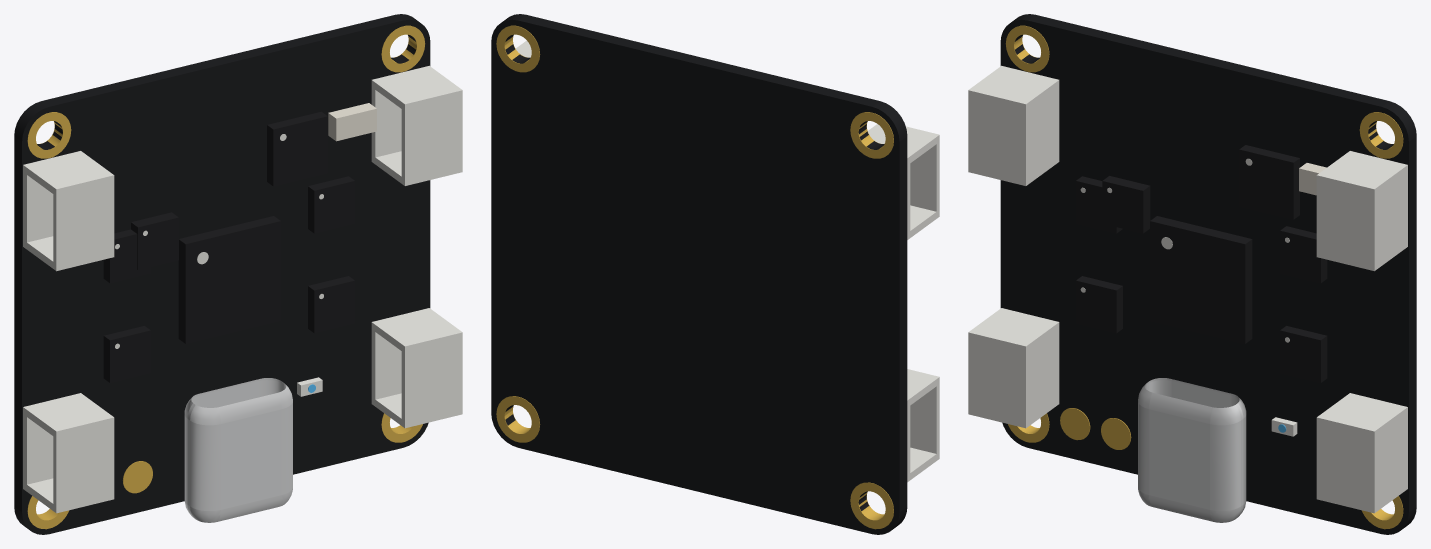
File: betafpv-f4-1s-5a-aio.glb
3 renders of one model, left to right at view 1: azimuth 30°, elevation 25°; view 2: azimuth 150°, elevation 25°; view 3: azimuth 330°, elevation 25°, orthographic.
Parts seen in each view (by area): view 1: board, usb, mcu, motor_plug_3, motor_plug_2, motor_plug_4, motor_plug_1, receiver, esc_fet_3, esc_fet_1, esc_fet_4, gyro (+7 smaller); view 2: board, motor_plug_2, motor_plug_3, hole_4, hole_3, hole_1, hole_2; view 3: board, usb, mcu, motor_plug_4, motor_plug_2, motor_plug_1, motor_plug_3, receiver, gyro, esc_fet_4, esc_fet_3, esc_fet_1 (+8 smaller).
Boxes of the visible parts, <box> form: board: <box>14,14,430,534</box>; usb: <box>184,378,292,522</box>; mcu: <box>178,216,280,343</box>; motor_plug_3: <box>23,393,114,513</box>; motor_plug_2: <box>23,151,114,271</box>; motor_plug_4: <box>371,308,462,428</box>; motor_plug_1: <box>371,65,462,185</box>; receiver: <box>267,111,327,186</box>; esc_fet_3: <box>103,326,150,382</box>; esc_fet_1: <box>308,176,354,233</box>; esc_fet_4: <box>308,276,354,333</box>; gyro: <box>131,212,178,269</box>; board: <box>491,14,907,534</box>; motor_plug_2: <box>868,124,939,239</box>; motor_plug_3: <box>907,369,939,482</box>; hole_4: <box>496,396,540,442</box>; hole_3: <box>850,482,893,529</box>; hole_1: <box>496,25,540,72</box>; hole_2: <box>850,112,893,158</box>; board: <box>1000,14,1416,534</box>; usb: <box>1138,378,1246,522</box>; mcu: <box>1150,216,1252,343</box>; motor_plug_4: <box>1316,393,1407,513</box>; motor_plug_2: <box>968,65,1059,185</box>; motor_plug_1: <box>1316,151,1407,271</box>; motor_plug_3: <box>968,308,1059,428</box>; receiver: <box>1239,145,1299,219</box>; gyro: <box>1102,176,1150,233</box>; esc_fet_4: <box>1280,326,1327,382</box>; esc_fet_3: <box>1076,276,1122,333</box>; esc_fet_1: <box>1280,226,1327,283</box>.
Size of the model in its own units: 30 by 30.54 by 5.28.
